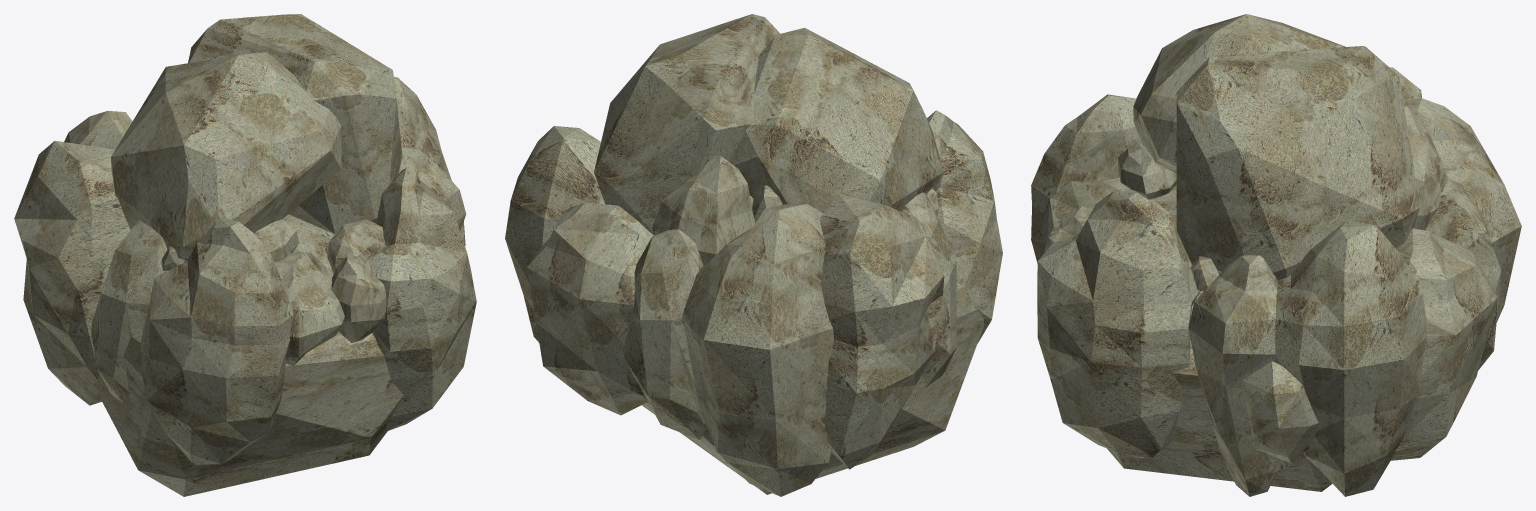
The model's file is poi_all_lair_cave_light_large_l0.fbx.
3 renders of one model, left to right at view 1: azimuth 30°, elevation 25°; view 2: azimuth 150°, elevation 25°; view 3: azimuth 270°, elevation 25°, orthographic. The views are drawn at different scales.
Parts seen in each view (by area): view 1: mesh_node; view 2: mesh_node; view 3: mesh_node.
Boxes of the visible parts, x1,y1,x2,y2 form: mesh_node: (14, 14, 476, 496); mesh_node: (505, 14, 1002, 496); mesh_node: (1031, 14, 1521, 496).
Bounding box in the file's own units: 28.16 × 27.01 × 26.44.
1 material, 1 textured.
